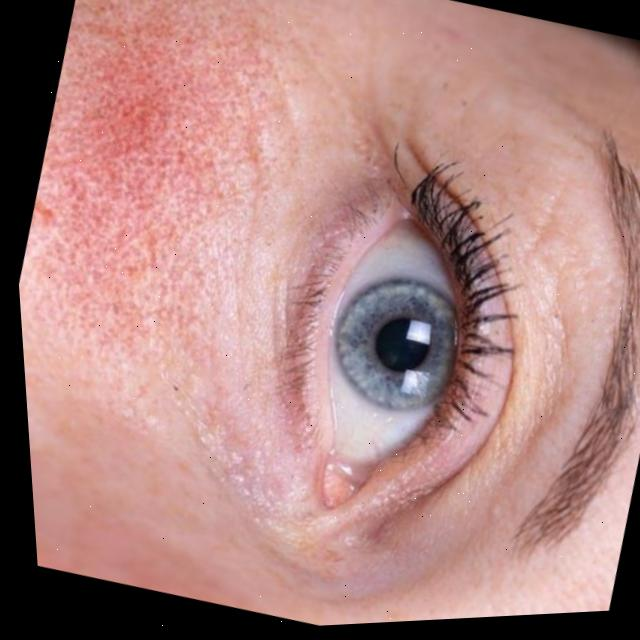Rosacea: (15, 0, 287, 301)
